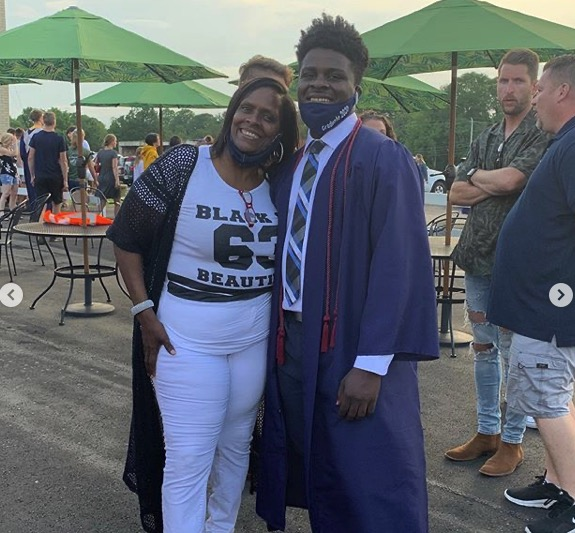mask_weared_incorrect: (292, 61, 354, 122), (234, 96, 281, 161)
without_mask: (534, 75, 565, 128), (495, 70, 531, 114)
